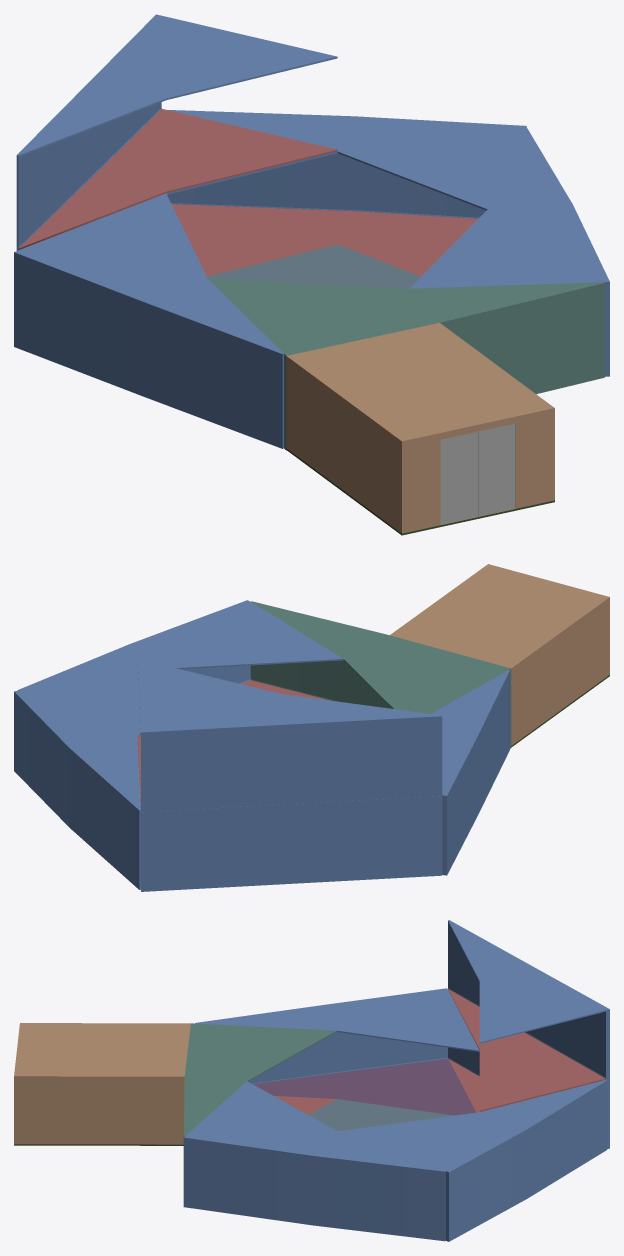
The model's file is FinalRoom_Low.fbx.
The picture shows the model from 3 angles, top to bottom: view 1: azimuth 30°, elevation 25°; view 2: azimuth 150°, elevation 25°; view 3: azimuth 270°, elevation 25°; orthographic projection. The views are drawn at different scales.
Visible parts, largest first — view 1: Wall (×5), Floor (×3), Wall1, Center, pCube2, pCube1; view 2: Wall (×6), Wall1; view 3: Wall (×6), Floor (×4), Wall1, Center.
Boxes of the visible parts, x1=… form: Wall (×5): x1=14, y1=110, x2=609, y2=533; Floor (×3): x1=18, y1=109, x2=477, y2=276; Wall1: x1=16, y1=14, x2=337, y2=249; Center: x1=207, y1=244, x2=420, y2=288; pCube2: x1=440, y1=431, x2=478, y2=524; pCube1: x1=478, y1=423, x2=515, y2=516; Wall (×6): x1=14, y1=564, x2=609, y2=891; Wall1: x1=137, y1=659, x2=442, y2=812; Wall (×6): x1=14, y1=988, x2=609, y2=1241; Floor (×4): x1=253, y1=989, x2=605, y2=1115; Wall1: x1=448, y1=920, x2=609, y2=1079; Center: x1=309, y1=1099, x2=453, y2=1131.
Size of the model in its own units: 21.49 by 7.62 by 29.39.
